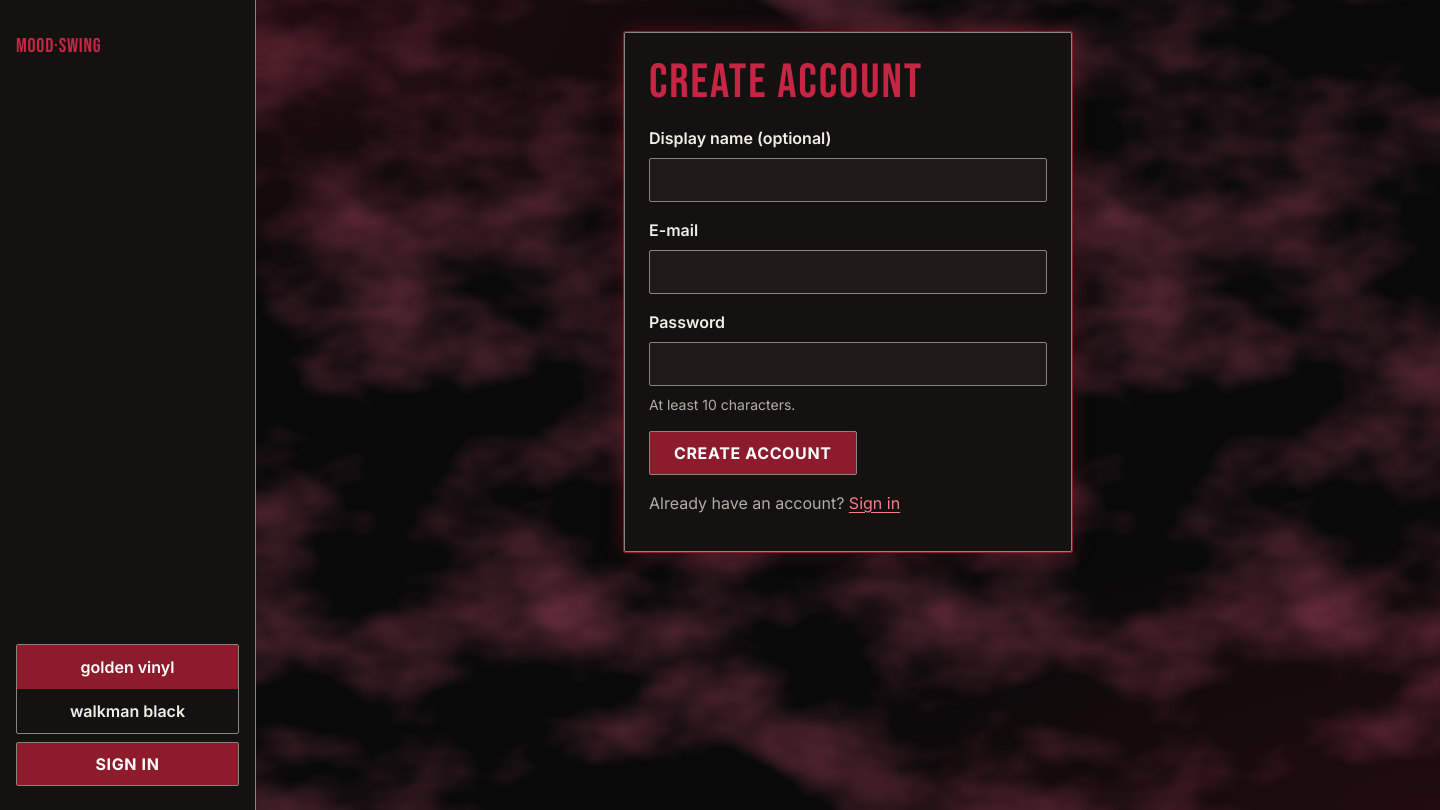
Scenario: authentication › reports an already registered e-mail on the field
Type "alice@example.com" into the field labelled "E-mail" at (848, 272), box [649,250,1047,294]
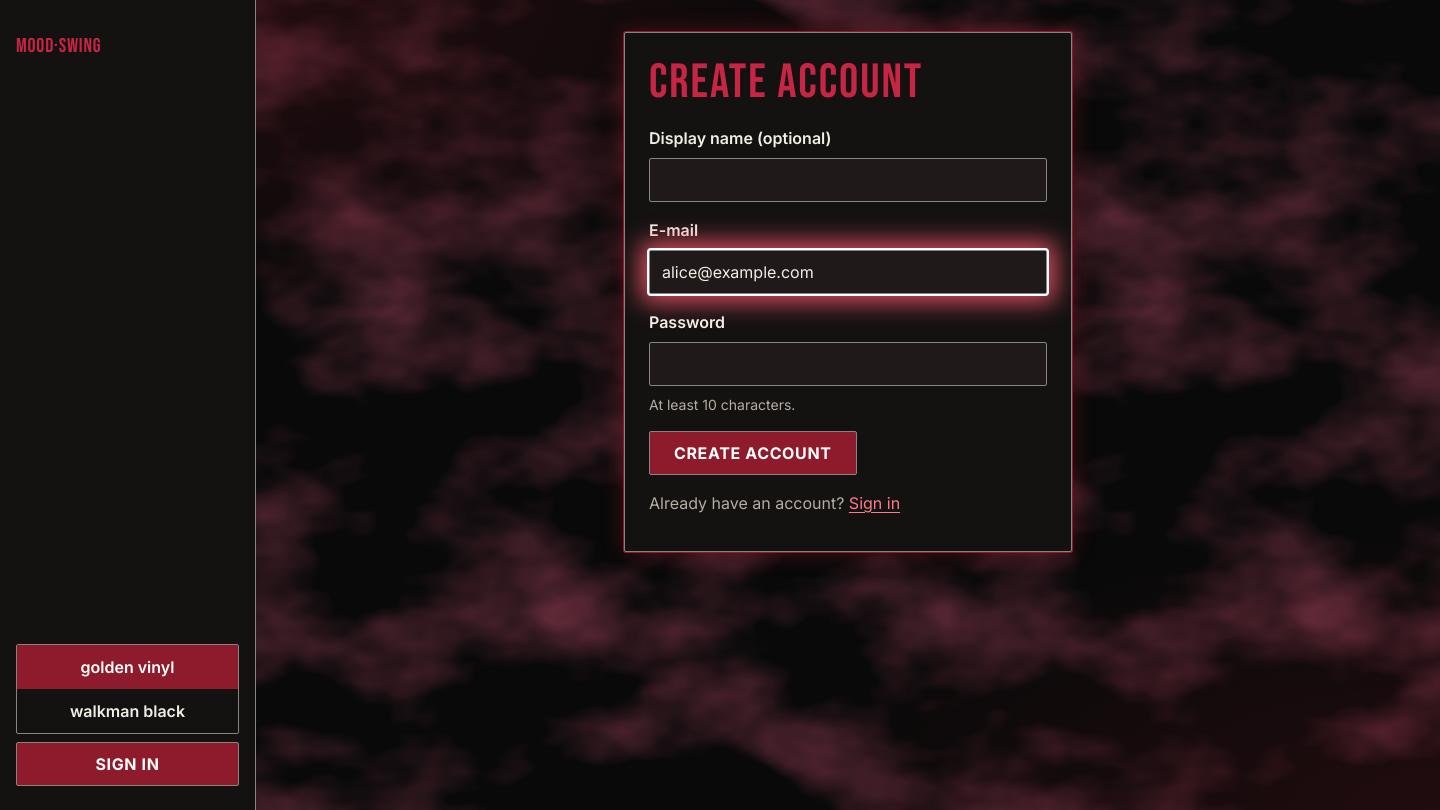
Type "long-enough-password" into the password field labelled "Password" at (848, 364), box [649,342,1047,386]
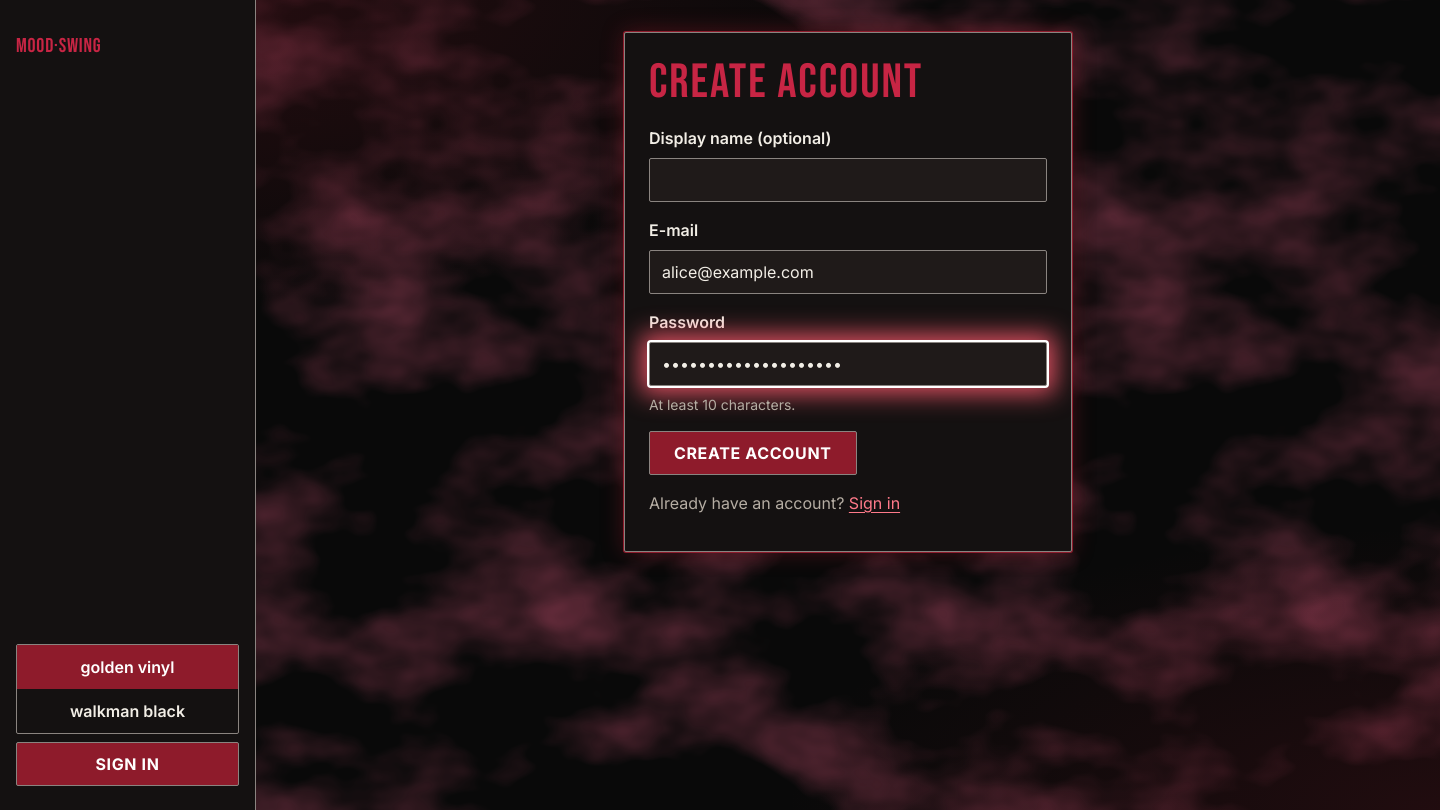
Click the button "Create account" at (753, 453), box [649,431,857,475]
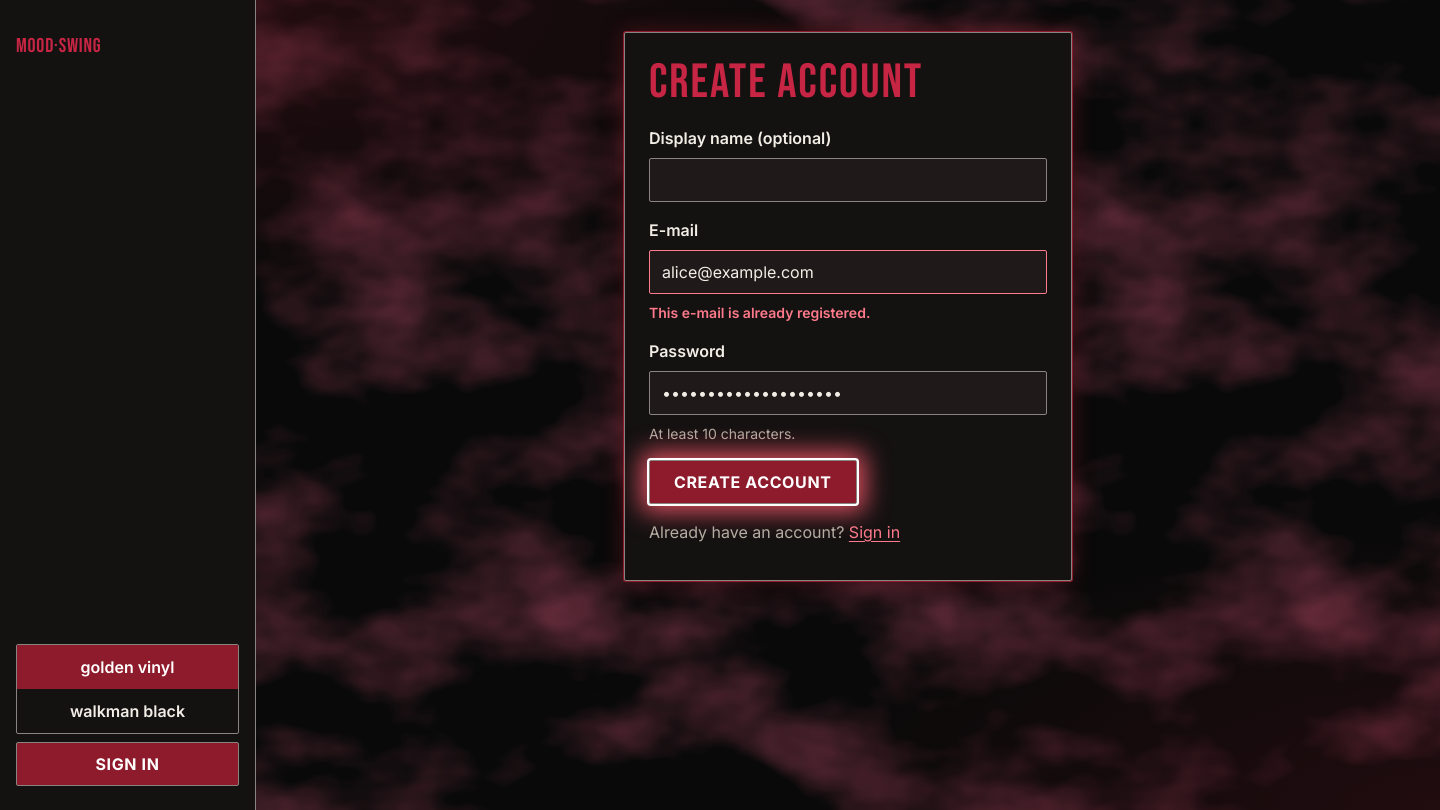
Expected: the text "This e-mail is already registered." is shown, [649,304,870,321]
